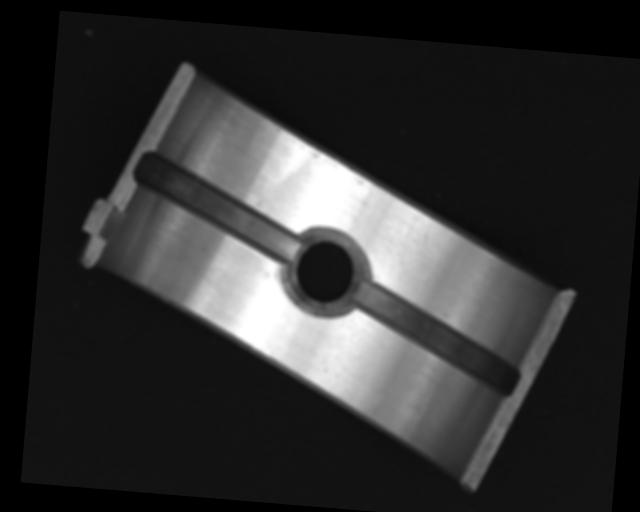gap: (349, 277, 526, 397), (130, 149, 305, 263)
hole: (285, 223, 366, 321)
